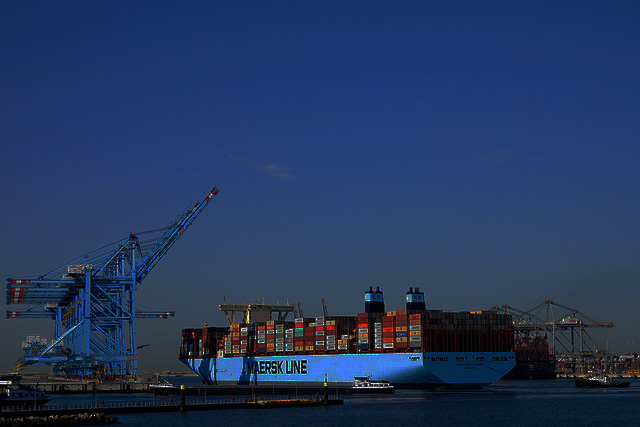boat: (345, 372, 395, 394)
container_ship: (179, 288, 515, 392)
tug_boat: (569, 363, 634, 392)
